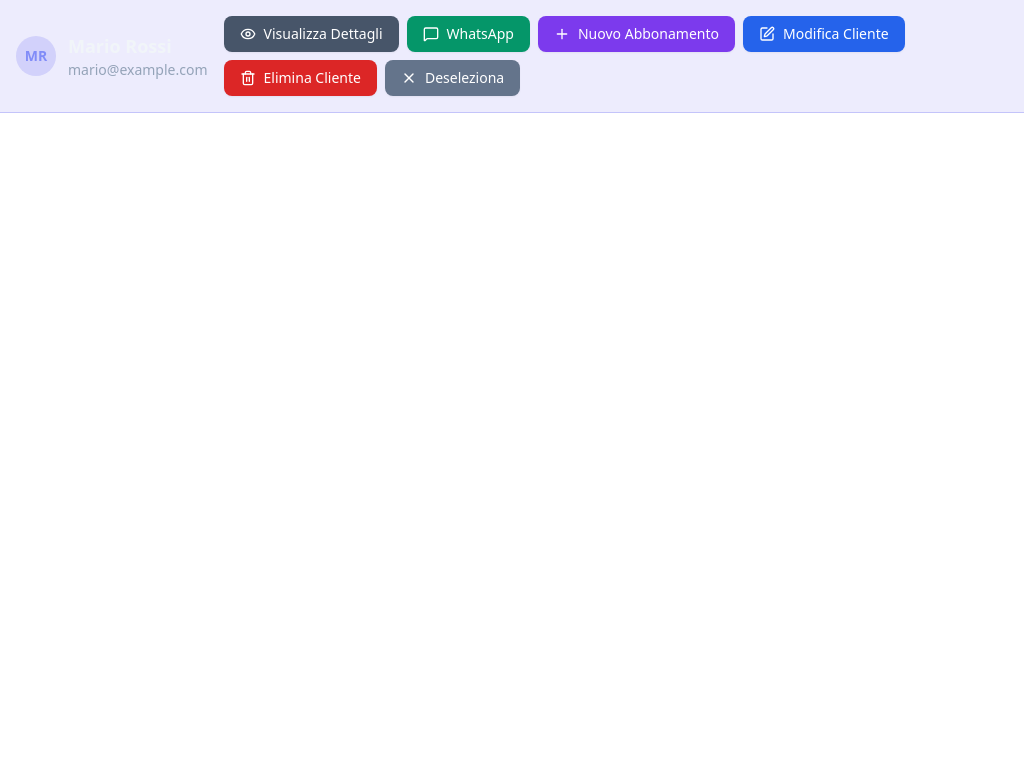
Test: ClientToolbar - Button Click Handlers › Apre il modale Eliminazione quando clicchi il pulsante Elimina
Click the button "Elimina Cliente" at {"x": 300, "y": 78}, box [224,60,377,96]
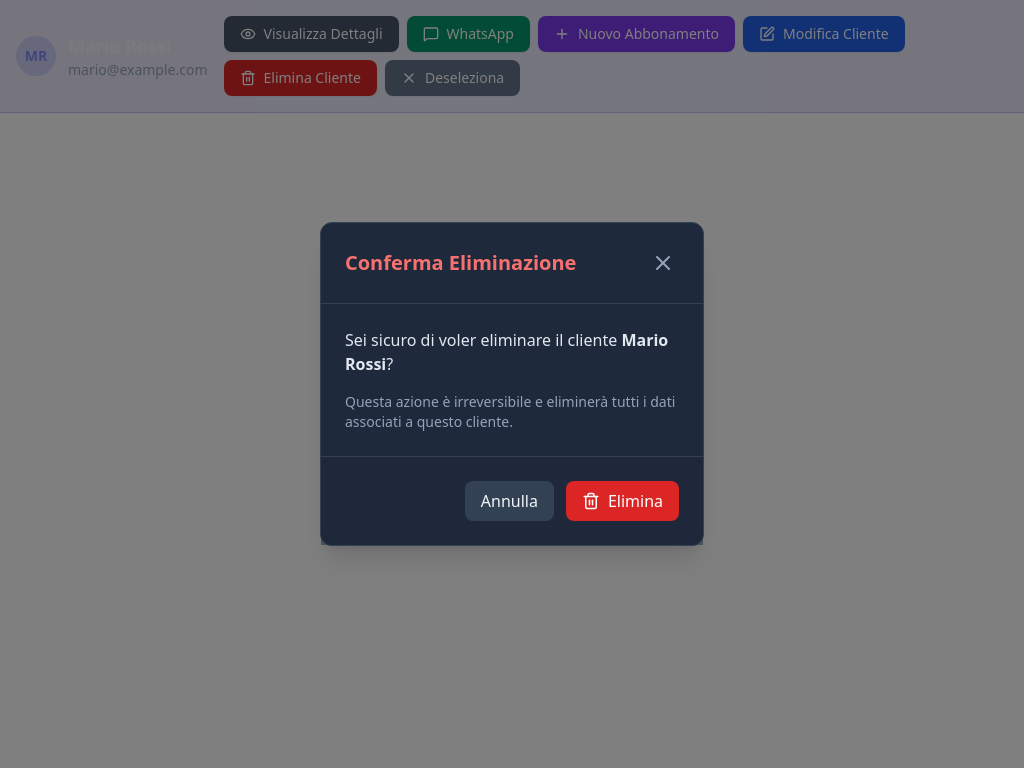
Expected: the heading "Conferma Eliminazione" is shown, [345,249,576,277]
